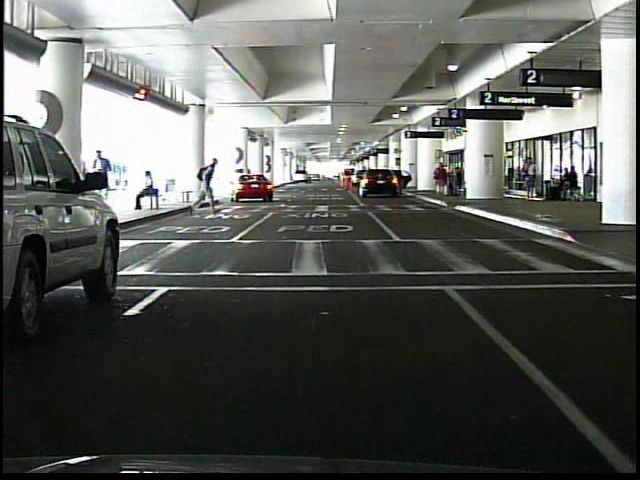person: (188, 159, 223, 217), (91, 146, 116, 216), (135, 173, 161, 212), (433, 163, 451, 199), (526, 156, 540, 200), (457, 163, 458, 198)
